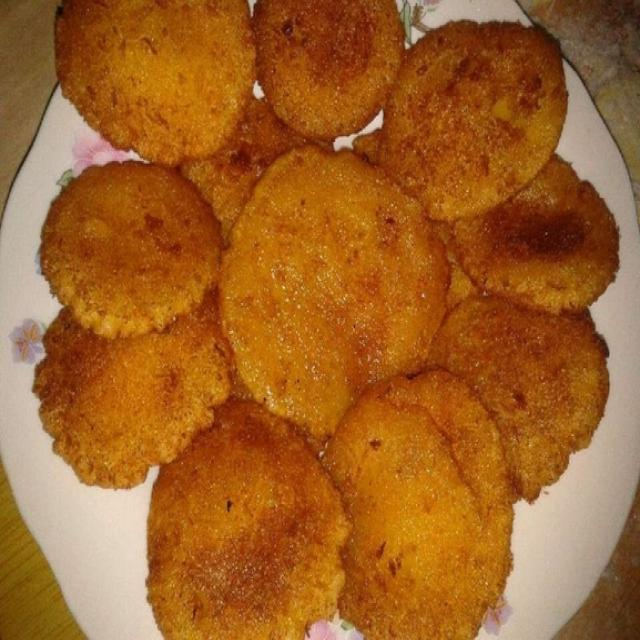炸货点心: (14, 7, 624, 634)
蛋糕甜品: (14, 7, 624, 634)
